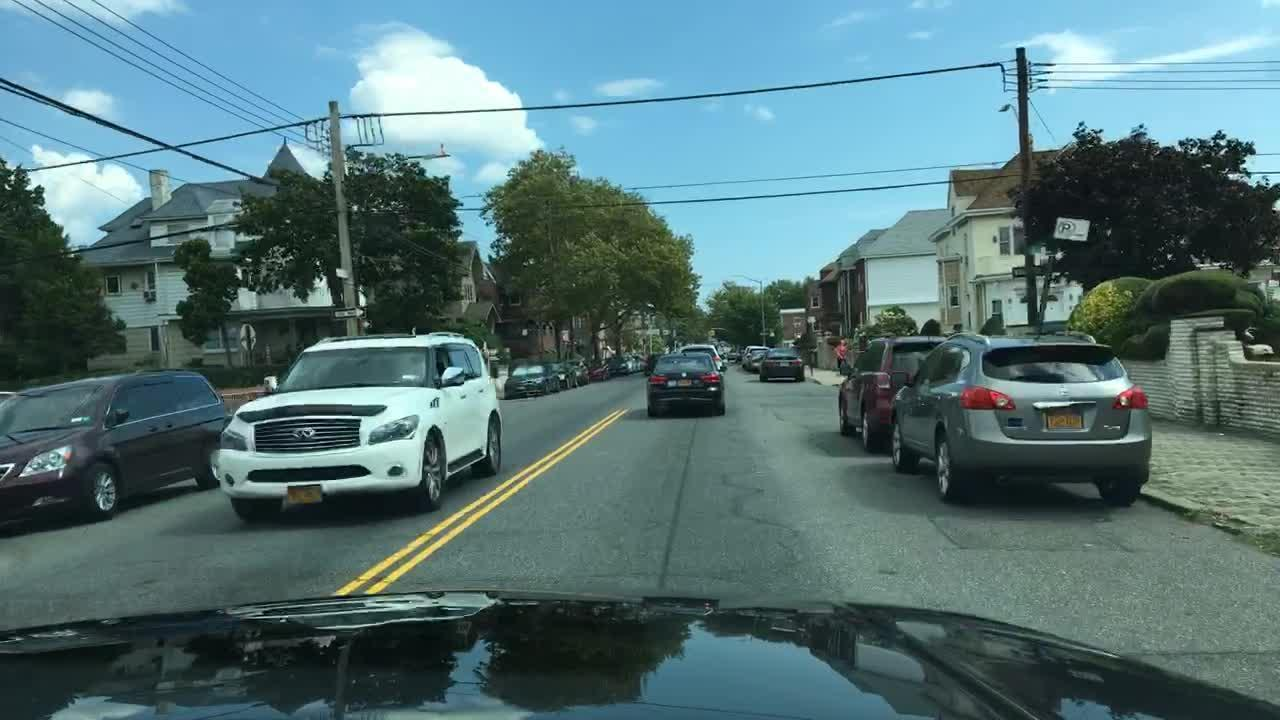Infiniti: (289, 424, 319, 443)
